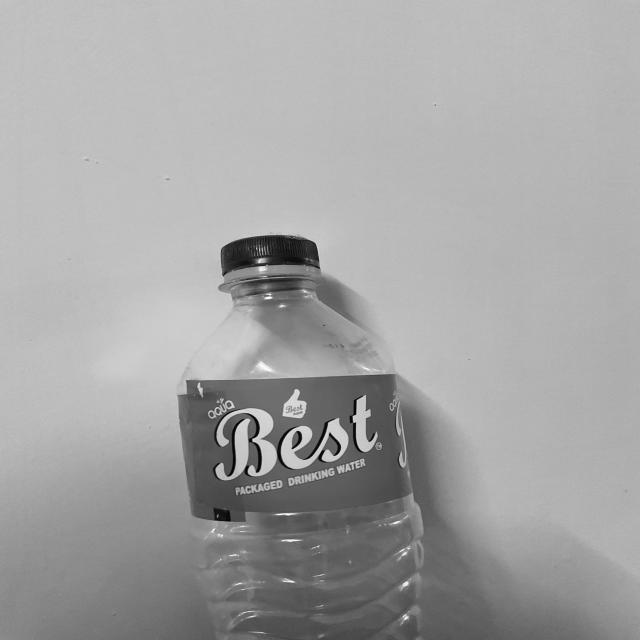Good-cap-Df0S: (213, 231, 326, 283)
